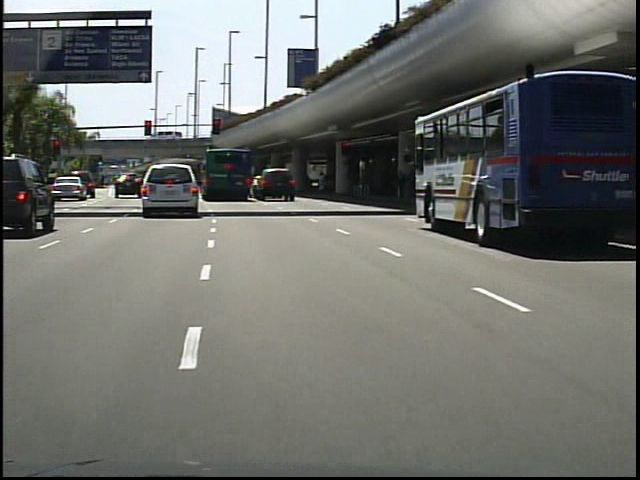person: (317, 163, 337, 200)
